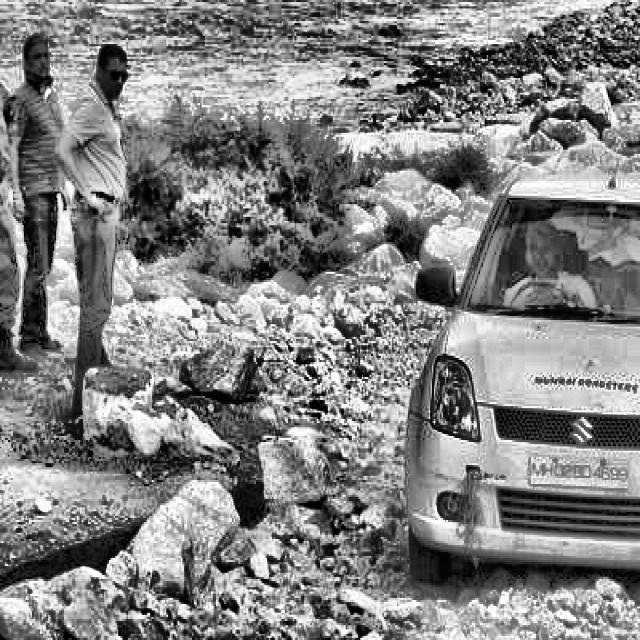light_vehicle: (389, 120, 640, 640)
